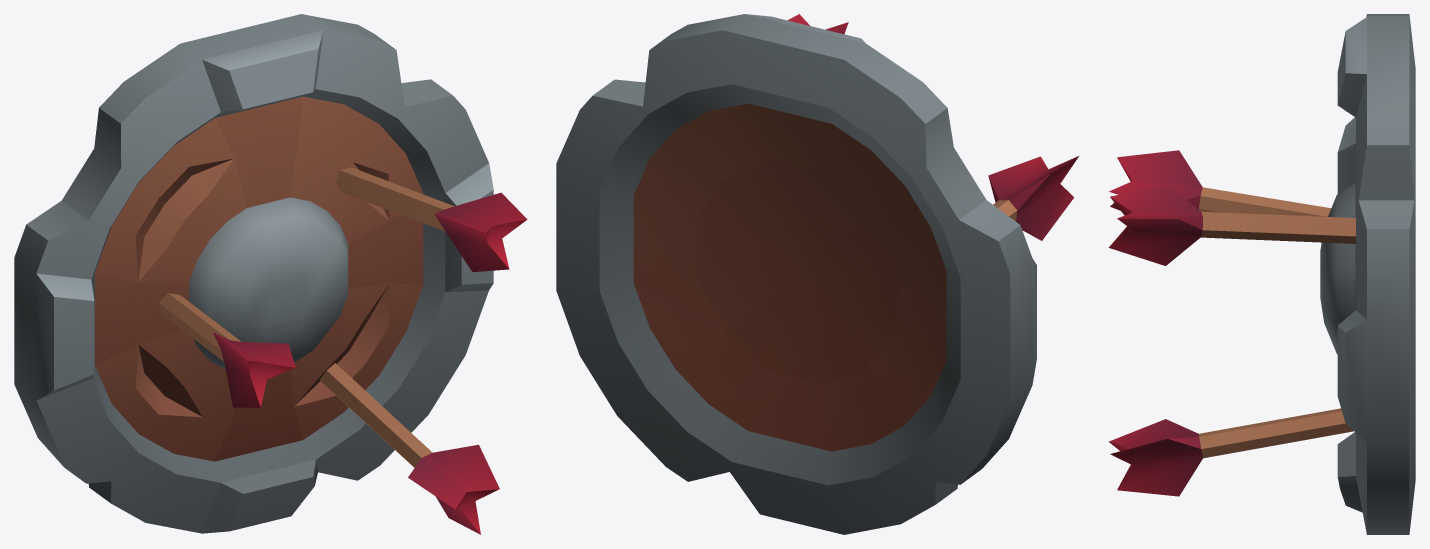
File: XS_Skeleton_Shield_Small_B.glb
3 views of the same model, side by side, from view 1: azimuth 30°, elevation 25°; view 2: azimuth 150°, elevation 25°; view 3: azimuth 270°, elevation 25° (orthographic). The views are drawn at different scales.
Parts seen in each view (by area): view 1: Skeleton_Shield_Small_B; view 2: Skeleton_Shield_Small_B; view 3: Skeleton_Shield_Small_B.
Part boxes in pixels (box(x1,y1,x2,y2)): Skeleton_Shield_Small_B: box(14, 14, 527, 534); Skeleton_Shield_Small_B: box(556, 14, 1078, 534); Skeleton_Shield_Small_B: box(1108, 14, 1415, 534).
Bounding box in the file's own units: 0.8322 × 0.8322 × 0.5058.
